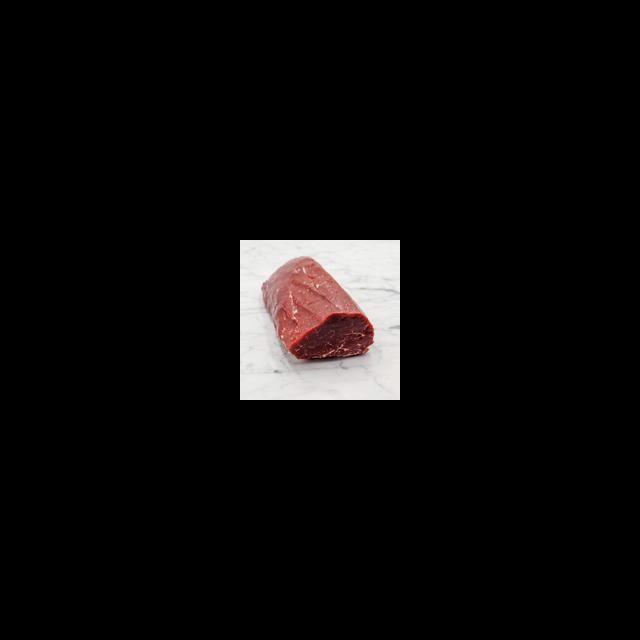beef: (259, 257, 374, 359)
